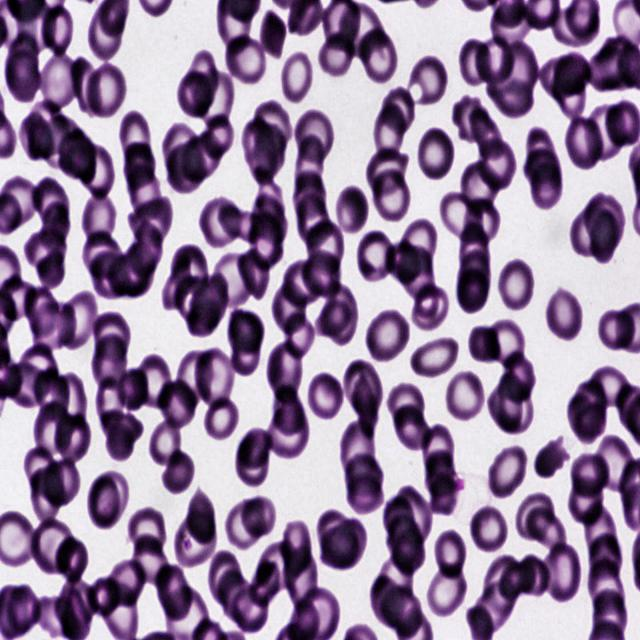red blood cell: (190, 345, 236, 411), (313, 280, 358, 347), (29, 518, 80, 576), (152, 558, 196, 624), (340, 1, 387, 62), (341, 360, 384, 426), (37, 50, 82, 113), (84, 0, 129, 63), (538, 538, 582, 602), (54, 290, 99, 352), (265, 334, 304, 405), (86, 468, 130, 530), (365, 306, 411, 364), (188, 273, 228, 338), (459, 158, 503, 216), (564, 109, 604, 172), (470, 579, 516, 633), (85, 62, 127, 121), (358, 29, 400, 88), (592, 435, 634, 494), (405, 54, 449, 110), (339, 419, 378, 482), (375, 552, 414, 615), (386, 514, 426, 575), (295, 106, 337, 164), (198, 197, 242, 252), (269, 403, 311, 460), (484, 71, 536, 117), (587, 555, 628, 613), (242, 116, 278, 182), (164, 119, 201, 183), (488, 442, 528, 501), (133, 351, 173, 410), (196, 69, 236, 128), (444, 368, 486, 424), (584, 193, 626, 249), (488, 372, 525, 435), (176, 511, 219, 565), (548, 4, 602, 47), (16, 343, 58, 398), (416, 124, 455, 183), (24, 446, 65, 502), (54, 578, 99, 629), (440, 190, 484, 242), (483, 555, 523, 612), (106, 556, 148, 610), (248, 208, 284, 271), (570, 204, 612, 258), (423, 566, 470, 614), (214, 254, 255, 309), (128, 195, 173, 245), (363, 145, 408, 195), (394, 487, 432, 546), (496, 257, 536, 313), (4, 47, 44, 103), (53, 408, 93, 464), (256, 539, 299, 591), (398, 218, 437, 275), (306, 218, 345, 275), (409, 333, 457, 379), (278, 48, 316, 106), (131, 532, 169, 590), (470, 503, 510, 558), (33, 401, 73, 456), (544, 287, 583, 343), (570, 449, 612, 501), (284, 546, 318, 610), (398, 245, 436, 302), (490, 2, 536, 49), (356, 228, 396, 282), (86, 250, 131, 298), (30, 174, 69, 229), (382, 586, 424, 637), (166, 142, 207, 194), (296, 192, 334, 248), (218, 568, 256, 624), (316, 508, 356, 561), (171, 241, 211, 294), (586, 106, 626, 159), (40, 115, 80, 168), (23, 224, 68, 271), (2, 364, 50, 408), (80, 190, 117, 247), (223, 36, 266, 85), (127, 507, 168, 558), (92, 311, 133, 362), (31, 595, 82, 636), (307, 369, 345, 424), (174, 272, 212, 327), (126, 164, 162, 222), (202, 393, 242, 445), (70, 56, 104, 117), (32, 305, 76, 352), (478, 137, 517, 190), (59, 128, 98, 181), (587, 44, 630, 92), (254, 98, 292, 152), (157, 379, 198, 429), (224, 500, 264, 551), (331, 183, 368, 238), (126, 220, 163, 275), (52, 373, 88, 429), (250, 192, 288, 245), (28, 101, 66, 154), (183, 131, 224, 180), (526, 124, 560, 183), (82, 228, 122, 278), (501, 42, 538, 96), (329, 518, 368, 569), (78, 143, 114, 198), (108, 253, 152, 298), (526, 506, 568, 553), (178, 350, 212, 408), (584, 366, 632, 407), (216, 205, 264, 246), (373, 168, 410, 221), (515, 493, 555, 542), (584, 503, 617, 562), (551, 68, 587, 122), (487, 319, 528, 366), (469, 105, 506, 157), (598, 306, 638, 354), (238, 247, 274, 300), (235, 435, 271, 488), (91, 334, 126, 388), (392, 405, 434, 450), (433, 528, 469, 580), (294, 132, 324, 194), (379, 86, 416, 136), (592, 588, 629, 638), (274, 279, 307, 335), (344, 451, 384, 497), (302, 252, 342, 298), (540, 55, 580, 101), (272, 385, 308, 436), (369, 574, 405, 625), (457, 248, 491, 302), (523, 145, 562, 192), (460, 221, 491, 280), (232, 584, 267, 636), (255, 122, 288, 177), (177, 69, 214, 118), (568, 473, 602, 526), (566, 391, 600, 444), (7, 32, 39, 88), (412, 286, 450, 333), (476, 37, 514, 84), (30, 470, 63, 524), (282, 262, 322, 306), (421, 423, 456, 473), (119, 110, 152, 163), (316, 30, 354, 76), (384, 238, 422, 284), (282, 518, 312, 576), (43, 458, 80, 505), (458, 37, 492, 88), (208, 552, 242, 603), (34, 367, 68, 418), (464, 198, 502, 243), (188, 49, 218, 105), (589, 208, 620, 262), (24, 292, 62, 336), (534, 438, 572, 482), (373, 104, 405, 156), (228, 306, 264, 352), (452, 96, 488, 142), (293, 170, 326, 220), (386, 381, 424, 424), (149, 414, 181, 465), (518, 552, 552, 600), (97, 374, 126, 430), (425, 448, 457, 498), (38, 202, 70, 252), (531, 161, 563, 211), (19, 113, 53, 160), (590, 531, 624, 578), (504, 350, 534, 403), (186, 491, 216, 544), (240, 495, 276, 539), (230, 327, 261, 378), (574, 378, 606, 427), (56, 534, 88, 583), (124, 140, 156, 189), (200, 114, 234, 160), (42, 3, 72, 55), (346, 474, 386, 513), (282, 312, 315, 359), (159, 450, 194, 494), (456, 269, 490, 314), (100, 408, 145, 442), (553, 54, 590, 95), (382, 495, 416, 539), (117, 367, 150, 412), (499, 560, 536, 600), (258, 7, 284, 63), (248, 560, 279, 606), (468, 324, 501, 366), (256, 182, 286, 228), (239, 429, 273, 469), (429, 472, 458, 518), (86, 578, 120, 617), (38, 245, 68, 289), (104, 423, 135, 464)
